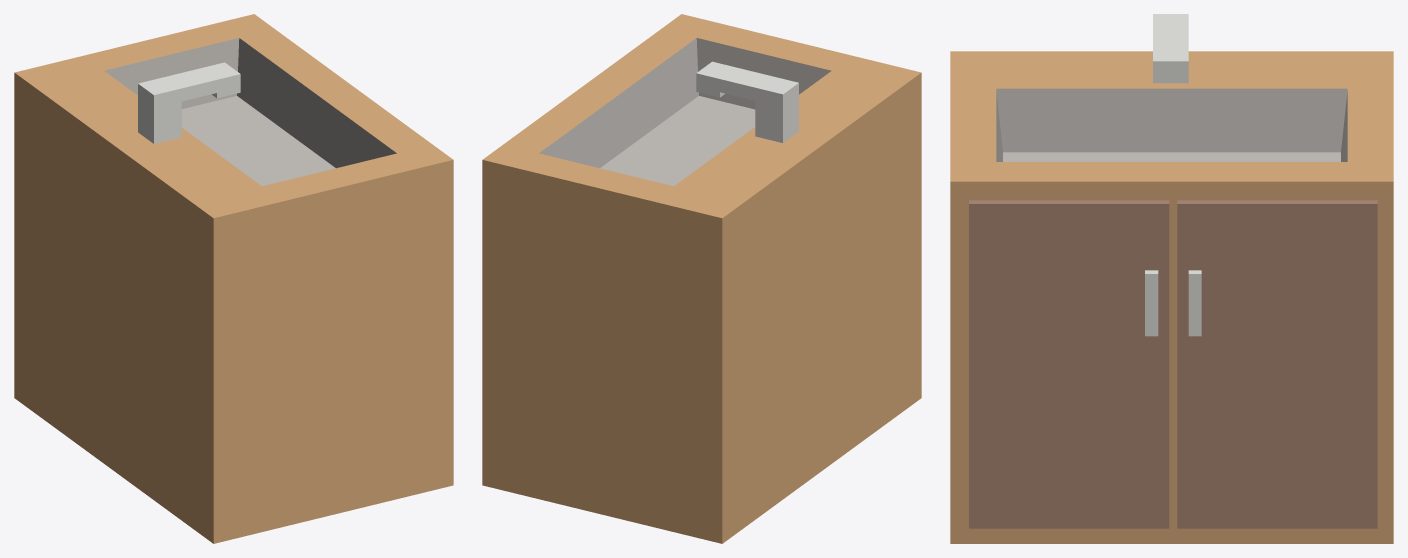
Rendered from bath_sink.fbx.
3 renders of one model, left to right at view 1: azimuth 30°, elevation 25°; view 2: azimuth 150°, elevation 25°; view 3: azimuth 270°, elevation 25°, orthographic. The views are drawn at different scales.
Visible parts, largest first — view 1: bath_sink1; view 2: bath_sink1; view 3: bath_sink1.
Part boxes in pixels (<box>): bath_sink1: <box>14,14,453,543</box>; bath_sink1: <box>482,14,921,543</box>; bath_sink1: <box>950,14,1393,543</box>.
Size of the model in its own units: 106 by 78.22 by 110.
